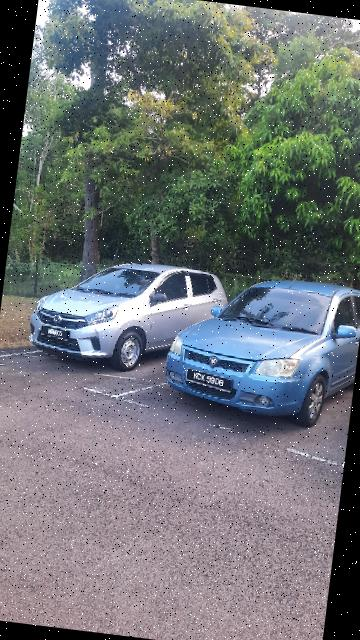License_Plate: (184, 367, 236, 397), (40, 324, 73, 345)
car: (156, 260, 360, 434), (21, 244, 242, 383)
